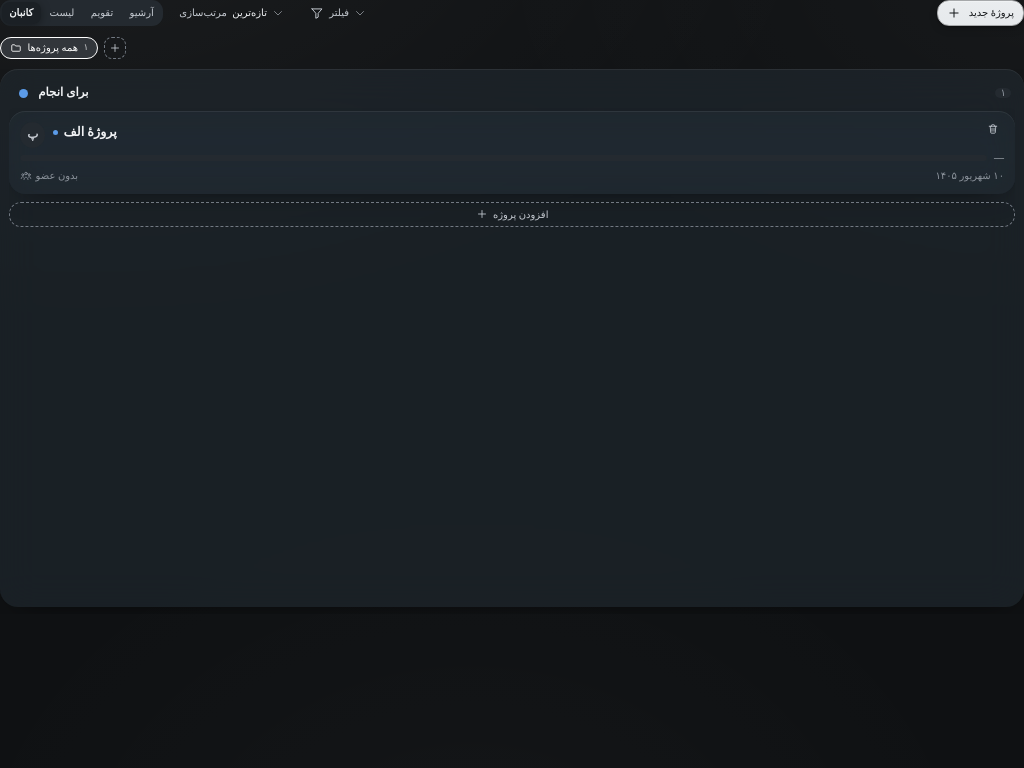
the way in: the column's row AND the row's end (2026-09-05, 2026-09-17) › keeps the top button on the views that HAVE no column, and it opens the project dialog
This screenshot has width=1024, height=768.
Expected: the heading "پروژهٔ الف" is shown, x1=64 y1=122 x2=117 y2=142
Click the button "لیست". click: (62, 13)
box: x1=42 y1=2 x2=82 y2=24
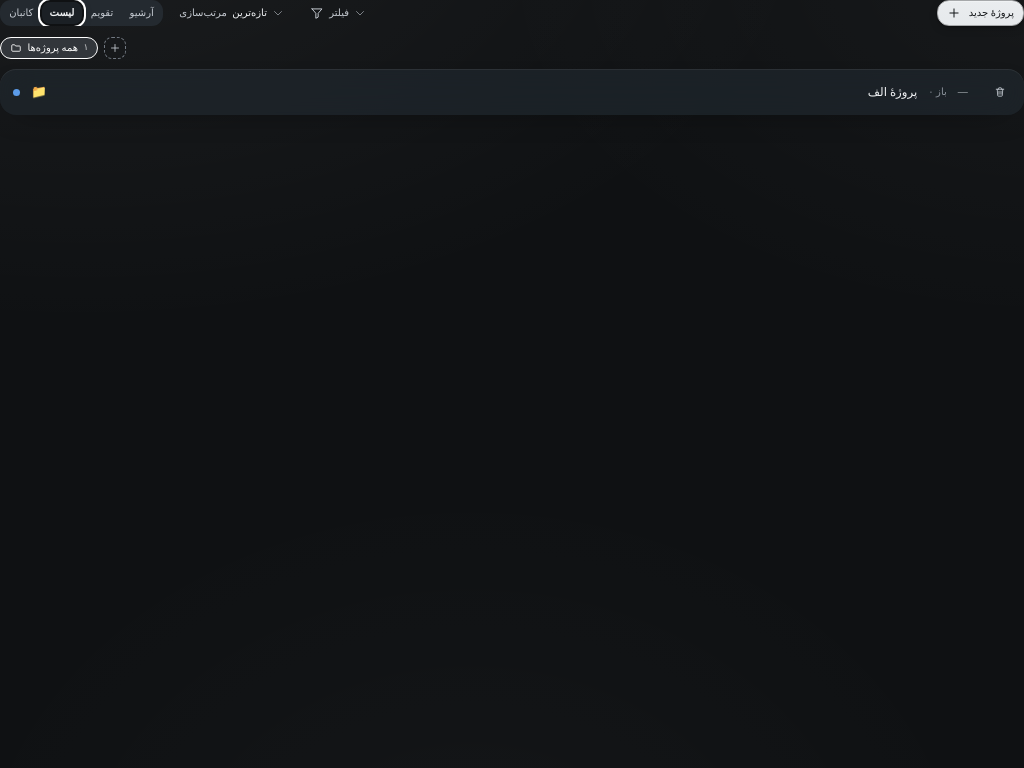
Expected: the button "افزودن پروژه" is gone
Click the button "پروژهٔ جدید". click: (981, 13)
box: x1=937 y1=0 x2=1023 y2=26
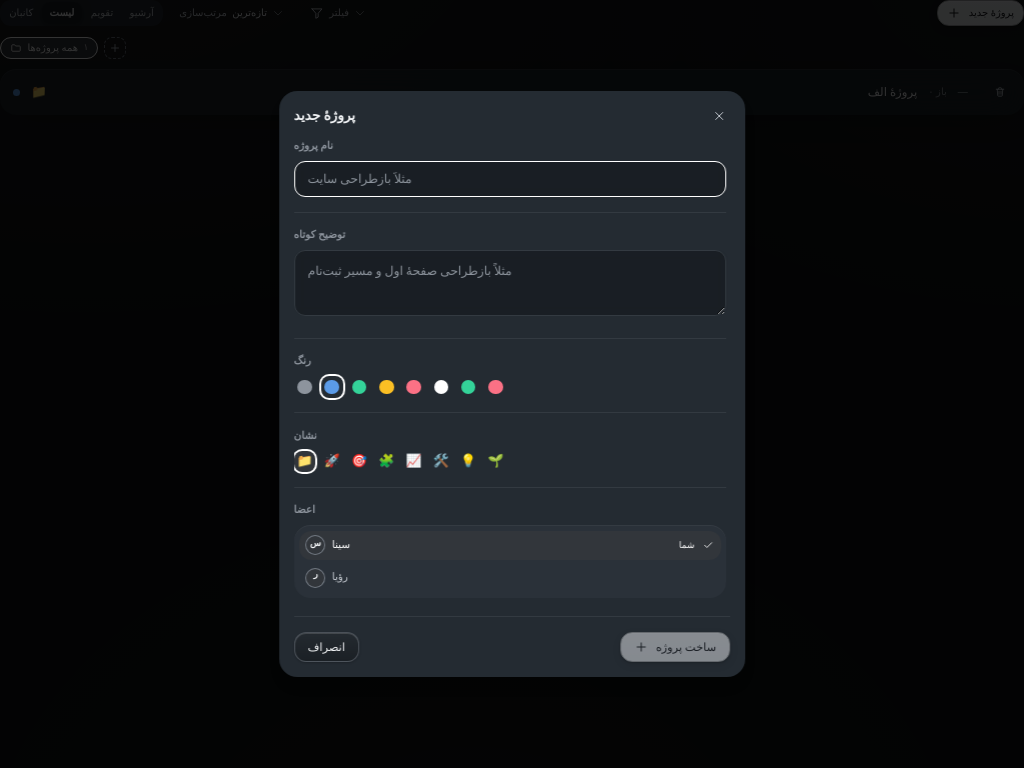
Expected: the dialog is shown, x1=279 y1=91 x2=745 y2=677
Expected: the field labelled "نام پروژه" is shown, x1=294 y1=161 x2=727 y2=197
